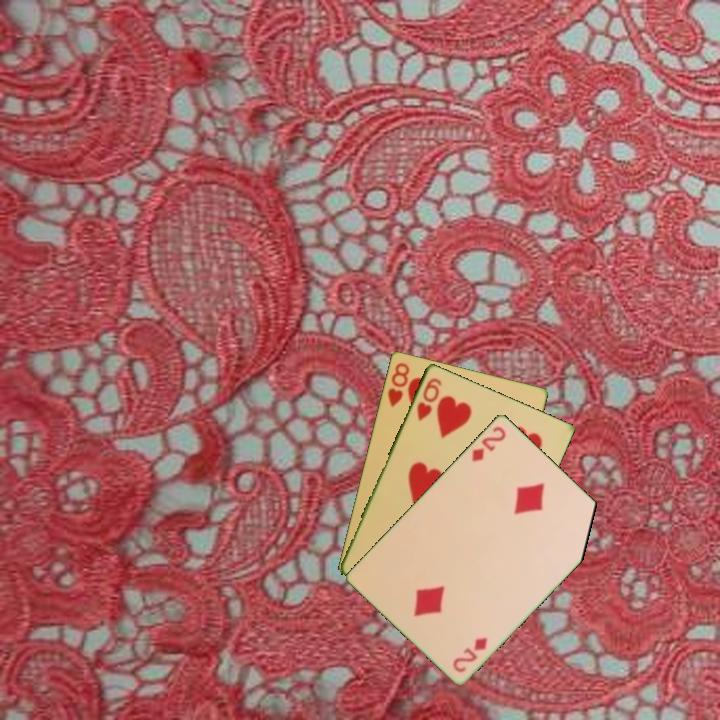2d: (468, 422, 509, 464), (449, 633, 490, 675)
6h: (413, 374, 445, 423)
8h: (384, 359, 412, 410)
